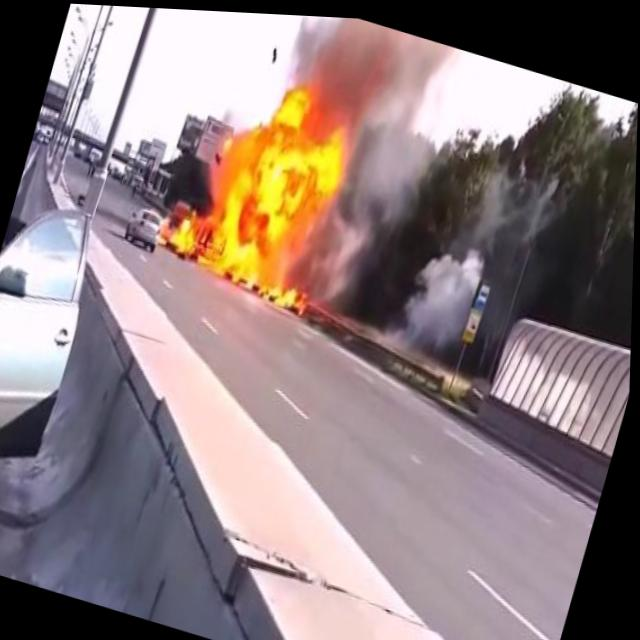fire: (156, 42, 380, 319)
